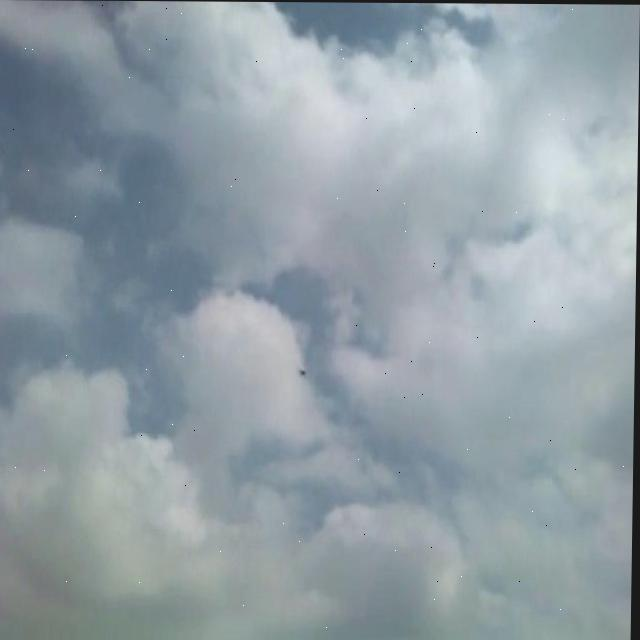drone: (299, 359, 311, 377)
